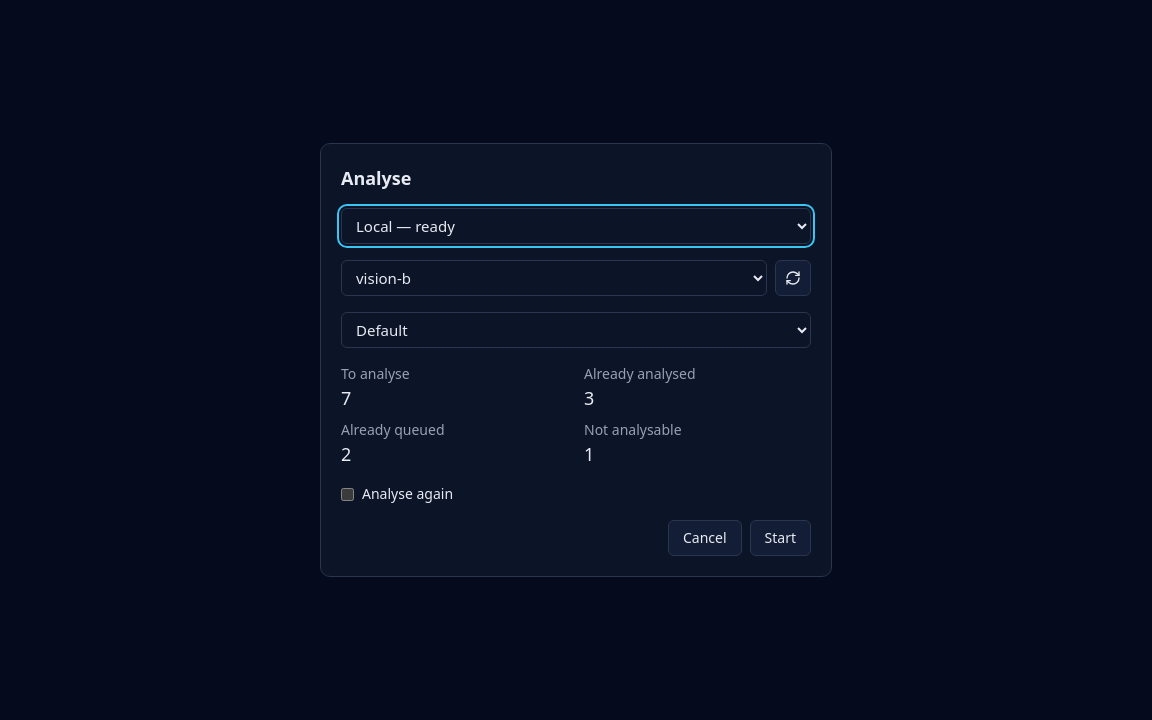
a failed start keeps the retry of a preview that failed afterwards
This screenshot has width=1152, height=720.
Click the button "Start" at (780,538), box [750,520,811,556]
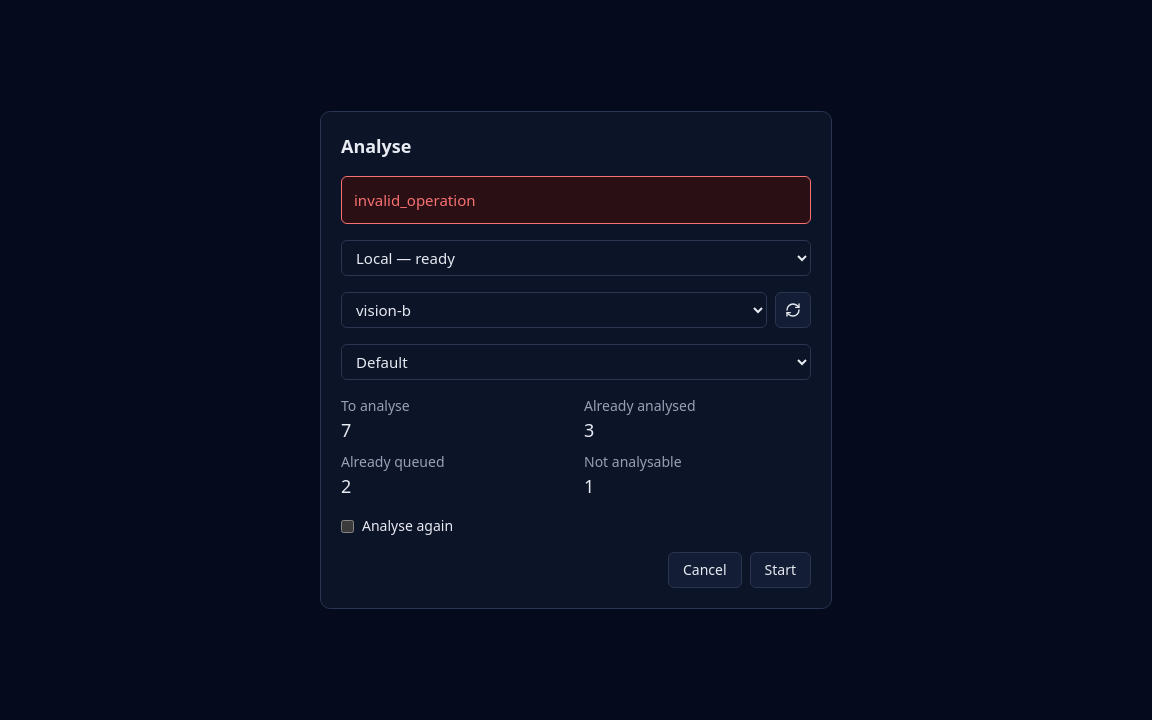
Check: the message "invalid_operation" is shown, box [341,176,811,224]
Select "vision-a" in the dropdown named "Tagging model" at (554,310), box [341,292,767,328]
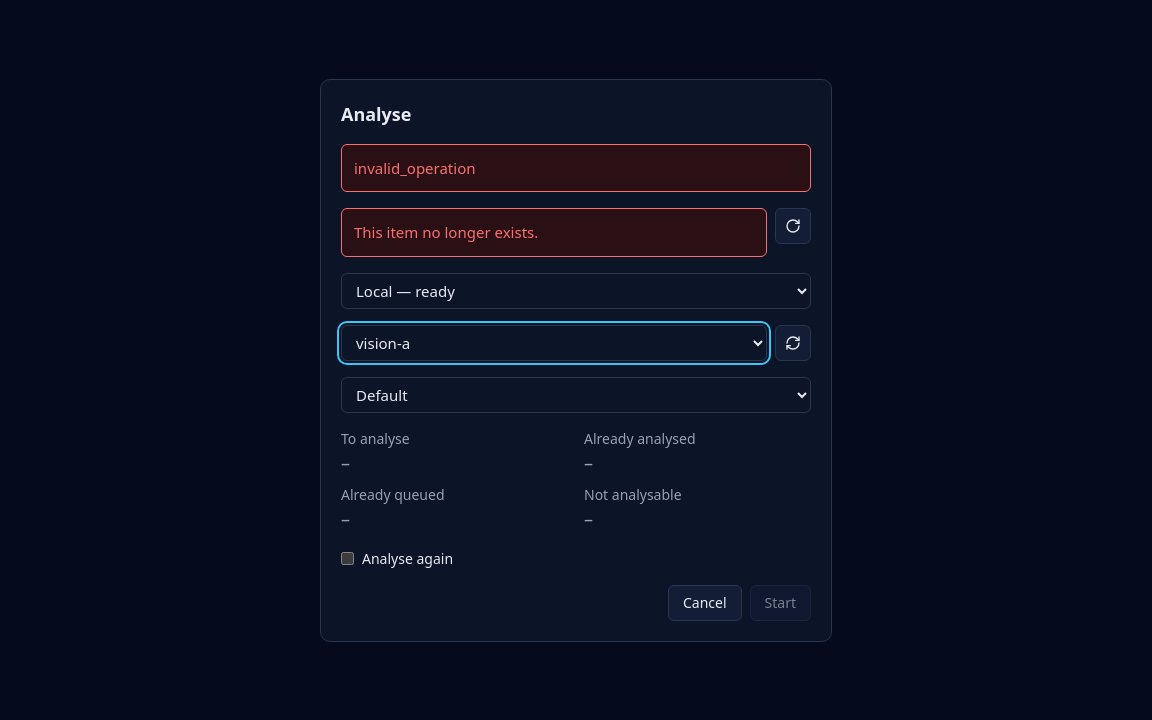
Check: the messages read "invalid_operation", "This item no longer exists.", in this order, box [341,144,811,192]; [341,208,767,256]
Check: the button named "Count again" is shown, box [775,208,811,244]
